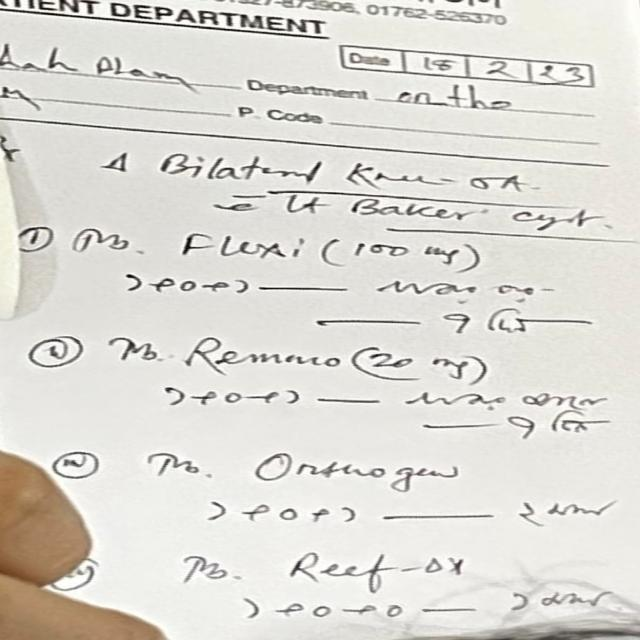Flexi: (163, 225, 320, 263)
Orthogen: (223, 448, 469, 493), (278, 547, 477, 585)
remmo: (174, 335, 345, 374)
